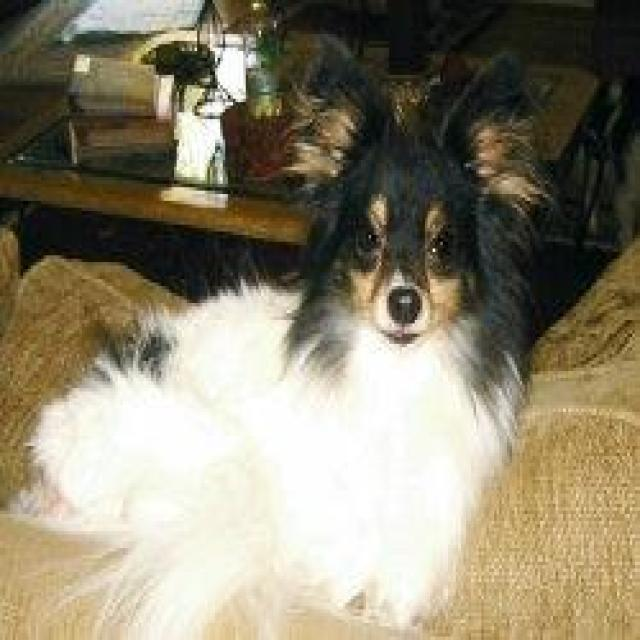papillon: (0, 48, 556, 636)
